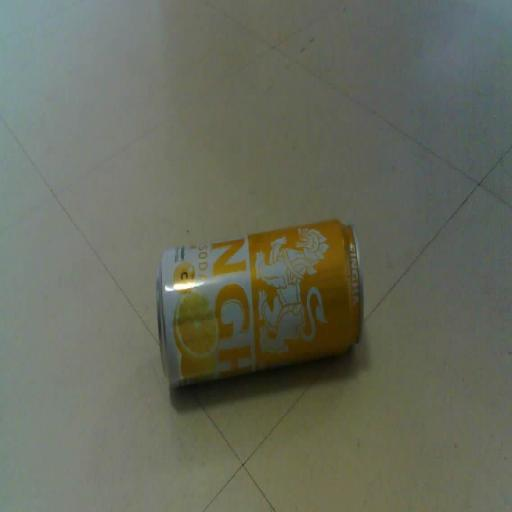canned: (146, 210, 362, 397)
